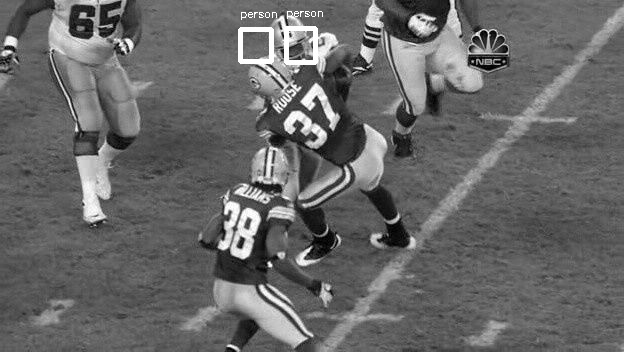person: (275, 23, 310, 68), (274, 23, 309, 68), (276, 23, 311, 68), (275, 22, 310, 67), (275, 24, 310, 69)
target_negative: (68, 143, 515, 347), (9, 95, 323, 315), (130, 177, 516, 246), (268, 302, 486, 349), (591, 182, 614, 244), (574, 7, 588, 103)
